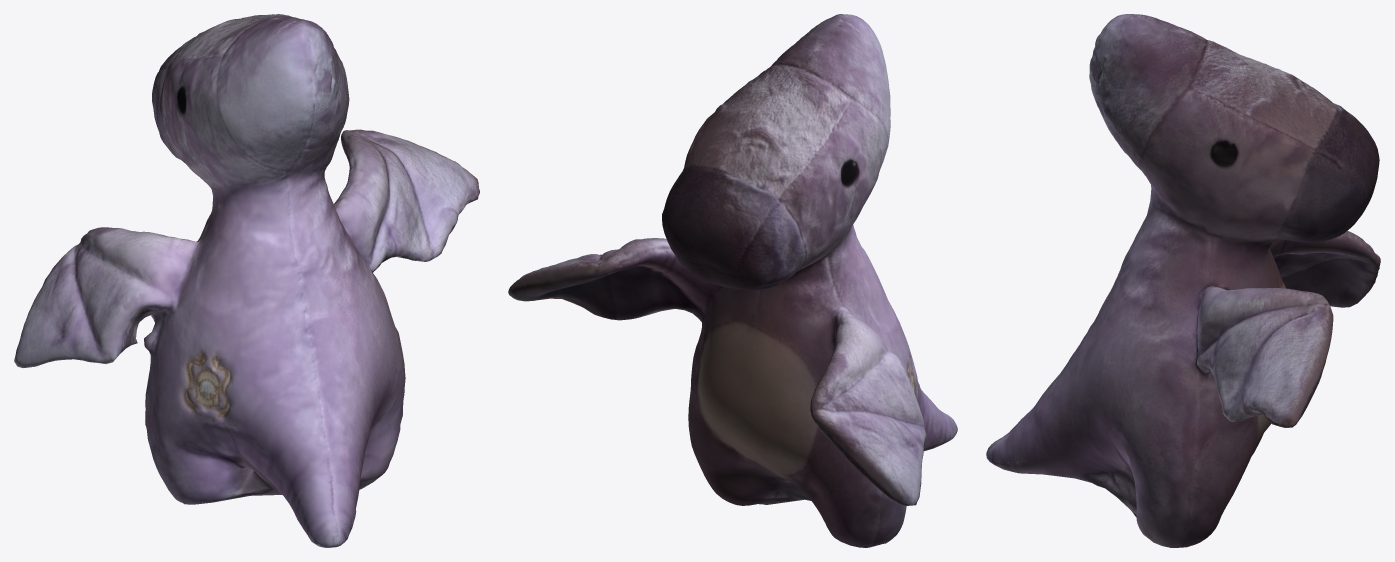
Rendered from 3DModel.gltf.
The picture shows the model from 3 angles, left to right: view 1: azimuth 30°, elevation 25°; view 2: azimuth 150°, elevation 25°; view 3: azimuth 270°, elevation 25°; orthographic projection.
Parts seen in each view (by area): view 1: 3DModel; view 2: 3DModel; view 3: 3DModel.
Boxes of the visible parts, bbox=[...] form: 3DModel: bbox=[14, 14, 479, 547]; 3DModel: bbox=[508, 14, 957, 547]; 3DModel: bbox=[986, 14, 1380, 547].
Size of the model in its own units: 0.6819 by 0.7405 by 0.5358.
Materials: 1 (1 with a texture image).
